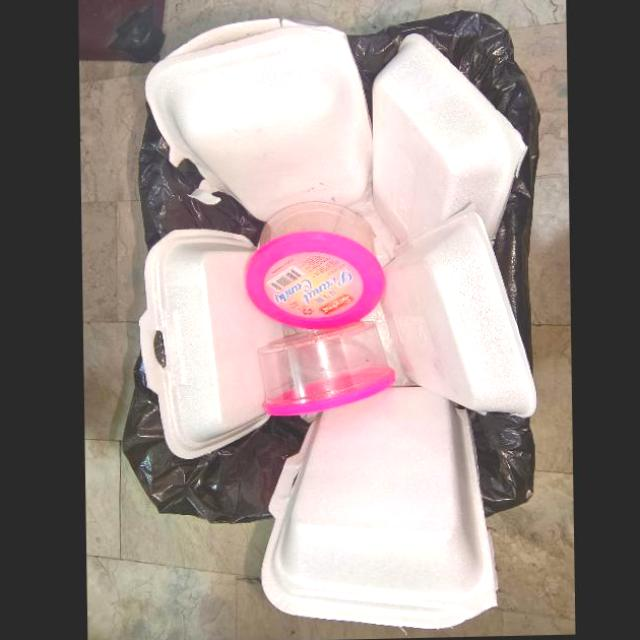hop_nhua: (242, 201, 385, 331), (257, 323, 395, 417)
xop: (258, 386, 497, 631), (143, 17, 373, 223), (137, 228, 293, 460), (379, 206, 536, 420), (371, 33, 528, 243)
